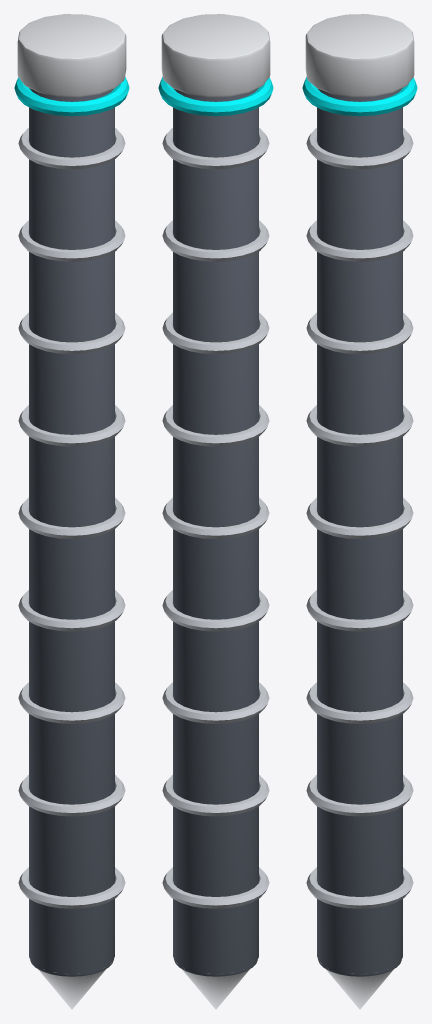
The model's file is control_rod.glb.
The picture shows the model from 3 angles, left to right: view 1: azimuth 30°, elevation 25°; view 2: azimuth 150°, elevation 25°; view 3: azimuth 330°, elevation 25°; orthographic projection.
Visible parts, largest first — view 1: Cylinder; view 2: Cylinder; view 3: Cylinder.
Boxes of the visible parts, left/top/right/bottom form: Cylinder: left=14, top=14, right=129, bottom=1009; Cylinder: left=158, top=14, right=273, bottom=1009; Cylinder: left=302, top=14, right=417, bottom=1009.
Size of the model in its own units: 0.678 by 6.32 by 0.678.
